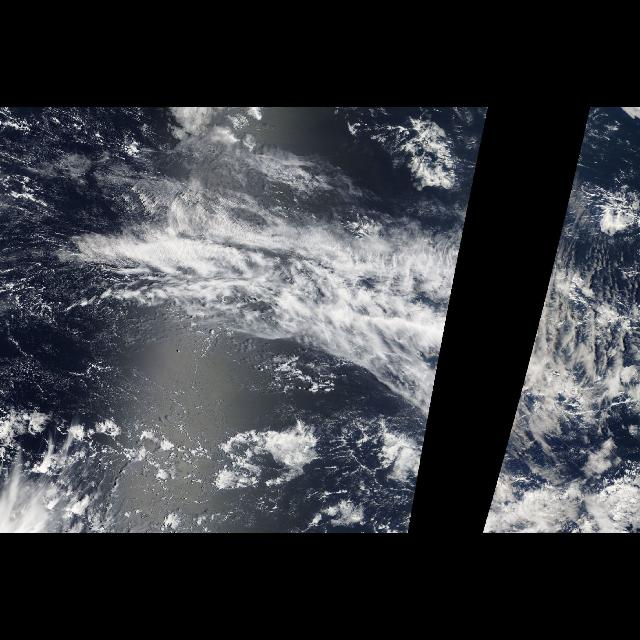Fish: (32, 175, 476, 388), (521, 175, 617, 388)
Gravel: (4, 387, 406, 497)
